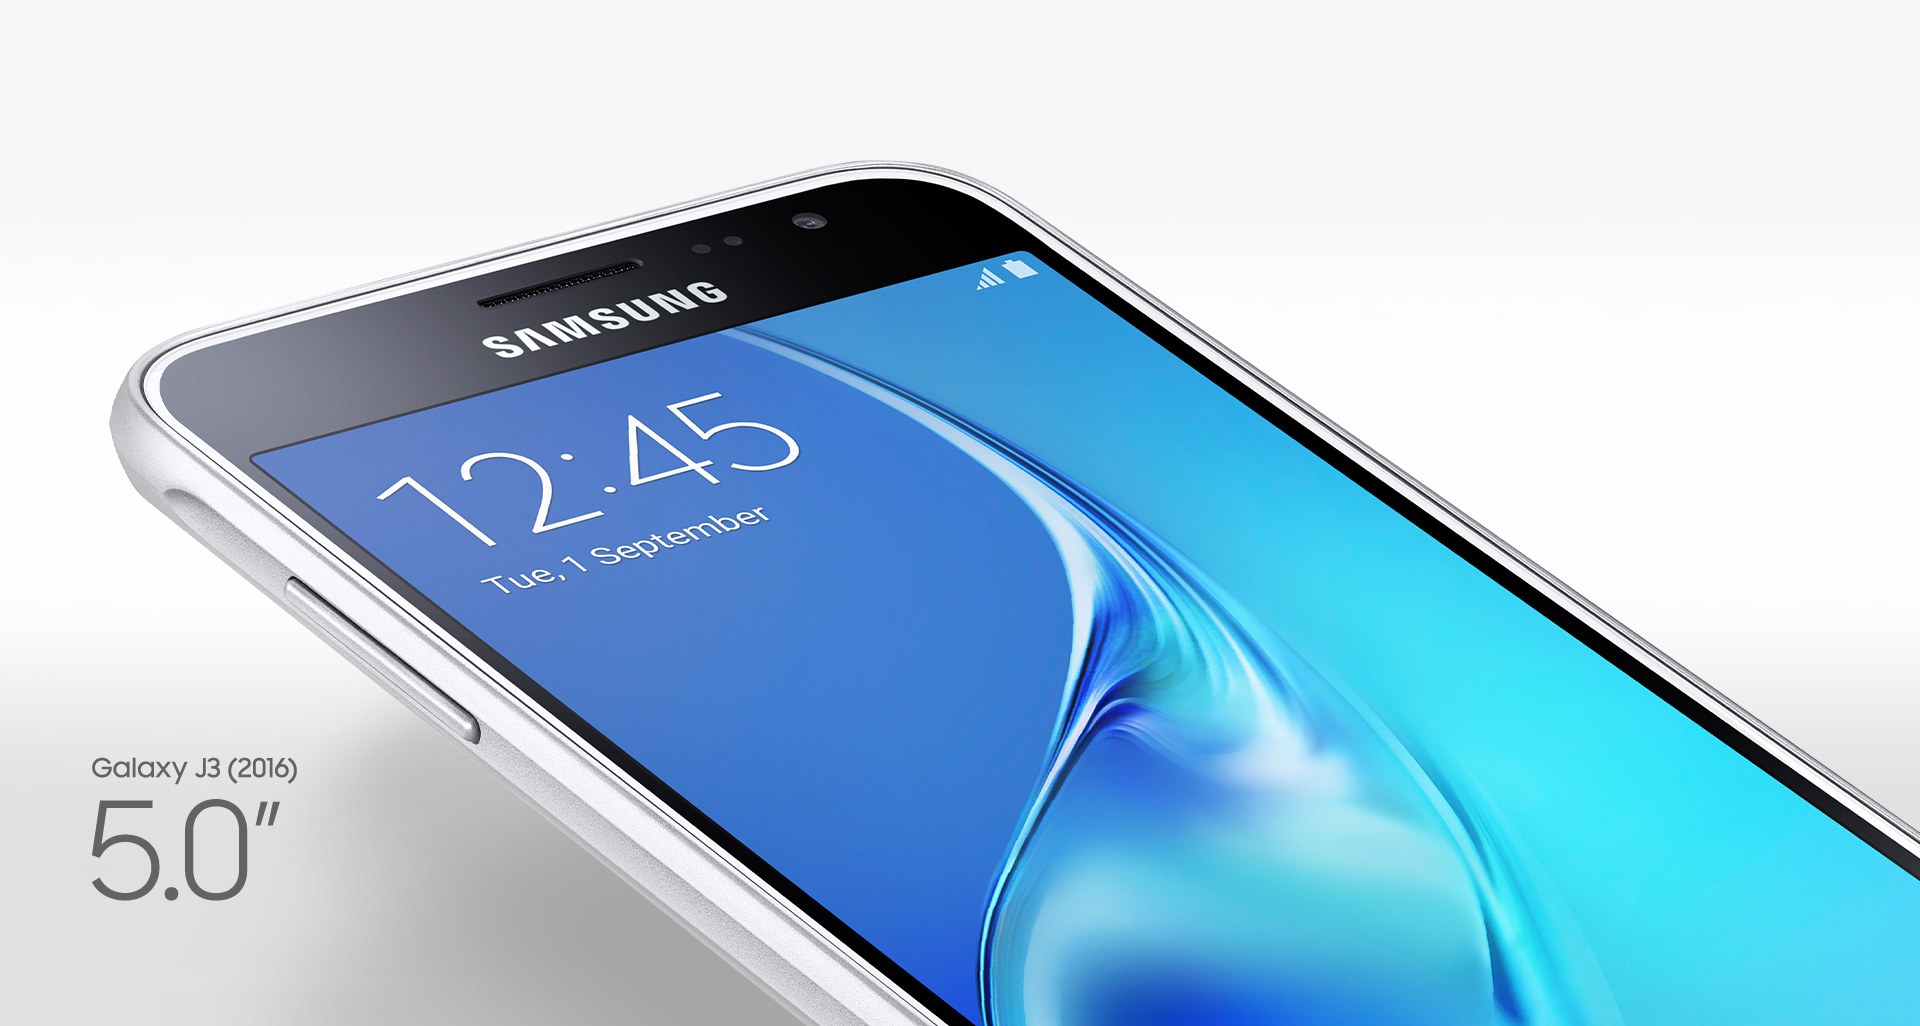smartphone: (109, 160, 1920, 1026)
